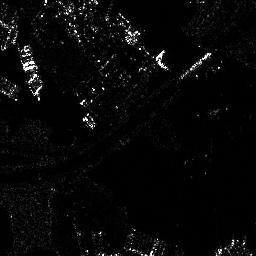ship: (177, 51, 213, 80)
